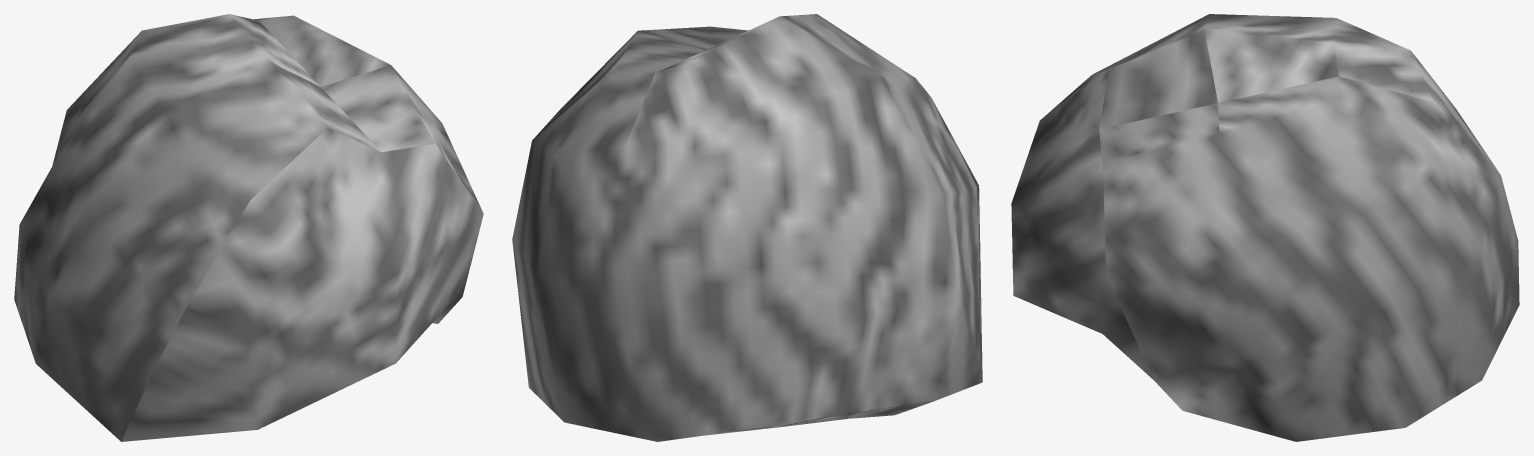
File: Wig_Kate_Hair_OverEyeLeft.fbx
The picture shows the model from 3 angles, left to right: view 1: azimuth 30°, elevation 25°; view 2: azimuth 150°, elevation 25°; view 3: azimuth 270°, elevation 25°; orthographic projection. The views are drawn at different scales.
Parts seen in each view (by area): view 1: BoxOfJars003; view 2: BoxOfJars003; view 3: BoxOfJars003.
Boxes of the visible parts, <box> form: BoxOfJars003: <box>14,14,483,441</box>; BoxOfJars003: <box>512,14,982,441</box>; BoxOfJars003: <box>1011,14,1519,441</box>.
Bounding box in the file's own units: 13.55 × 11.02 × 14.51.
